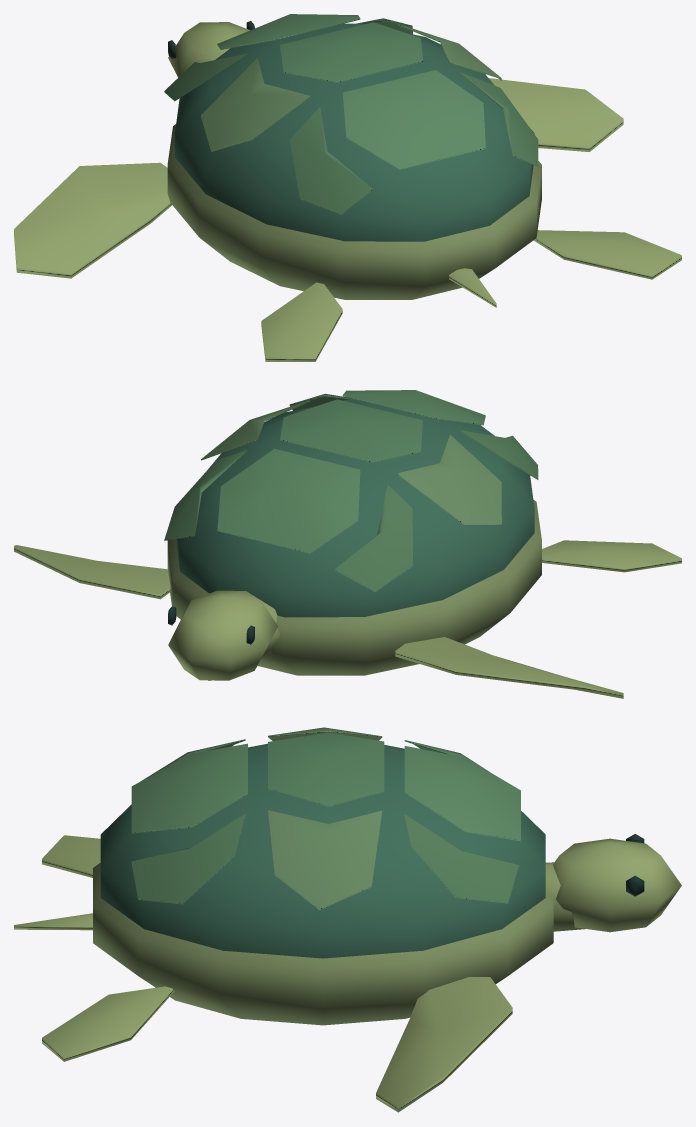
The model's file is turtle.glb.
3 views of the same model, one above another, from view 1: azimuth 30°, elevation 25°; view 2: azimuth 150°, elevation 25°; view 3: azimuth 270°, elevation 25° (orthographic). The views are drawn at different scales.
Parts seen in each view (by area): view 1: body_surface, anim_flipper_L_surface, anim_flipper_R_surface, anim_tail_surface; view 2: body_surface, anim_flipper_L_surface, anim_flipper_R_surface; view 3: body_surface, anim_flipper_R_surface, anim_tail_surface.
Boxes of the visible parts, x1,y1,x2,y2 form: body_surface: (164,14,681,361); anim_flipper_L_surface: (14,162,171,278); anim_flipper_R_surface: (489,78,623,151); anim_tail_surface: (449,268,496,307); body_surface: (164,390,681,680); anim_flipper_L_surface: (395,637,623,698); anim_flipper_R_surface: (14,545,170,599); body_surface: (42,727,681,1061); anim_flipper_R_surface: (376,977,512,1112); anim_tail_surface: (14,913,92,930).
Size of the model in its own units: 1.37 by 0.4783 by 1.2.
